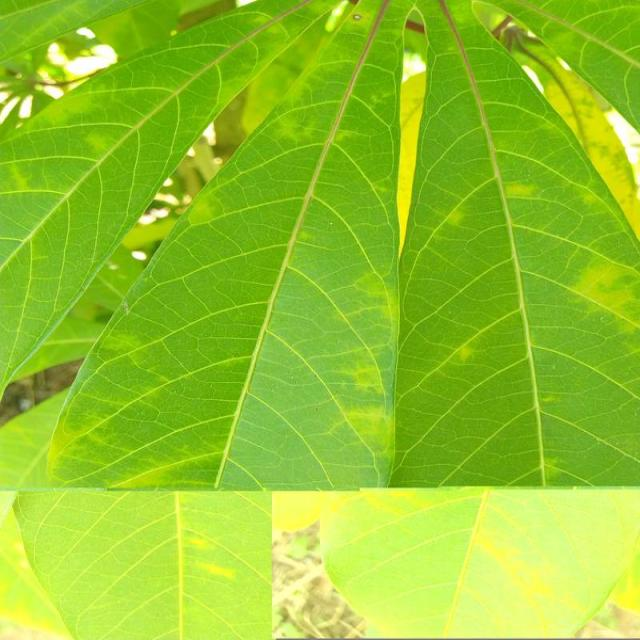cassava leaf: (0, 0, 638, 637), (44, 0, 407, 493), (391, 0, 638, 489)
